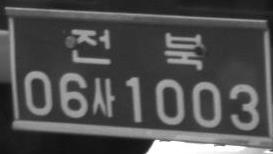0: (191, 81, 223, 128), (154, 77, 185, 125), (24, 69, 53, 116)
1: (121, 76, 149, 123)
3: (229, 82, 260, 131)
6: (59, 71, 88, 118)
사: (89, 77, 116, 117)
전북_D: (70, 27, 203, 70)
